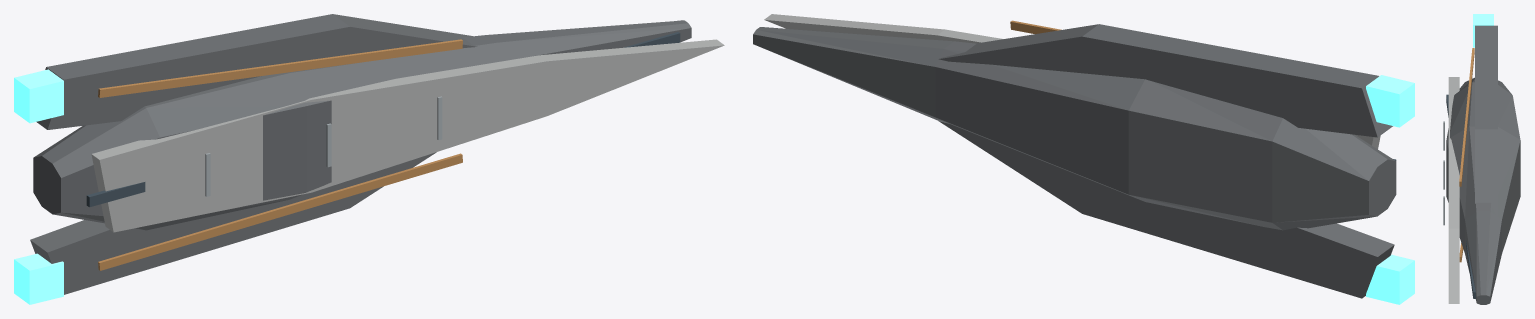
File: cerberus-heavy-cruiser.glb
3 views of the same model, side by side, from view 1: azimuth 30°, elevation 25°; view 2: azimuth 150°, elevation 25°; view 3: azimuth 270°, elevation 25° (orthographic). The views are drawn at different scales.
Parts seen in each view (by area): view 1: Hull and platework, Engines and emitters; view 2: Hull and platework, Engines and emitters; view 3: Hull and platework, Engines and emitters.
Part boxes in pixels (bbox=[...]): Hull and platework: bbox=[30, 14, 724, 294]; Engines and emitters: bbox=[14, 69, 63, 304]; Hull and platework: bbox=[753, 14, 1396, 298]; Engines and emitters: bbox=[1366, 75, 1414, 304]; Hull and platework: bbox=[1443, 25, 1520, 304]; Engines and emitters: bbox=[1473, 14, 1493, 47].
Bounding box in the file's own units: 3.35 × 1.02 × 0.4995.
